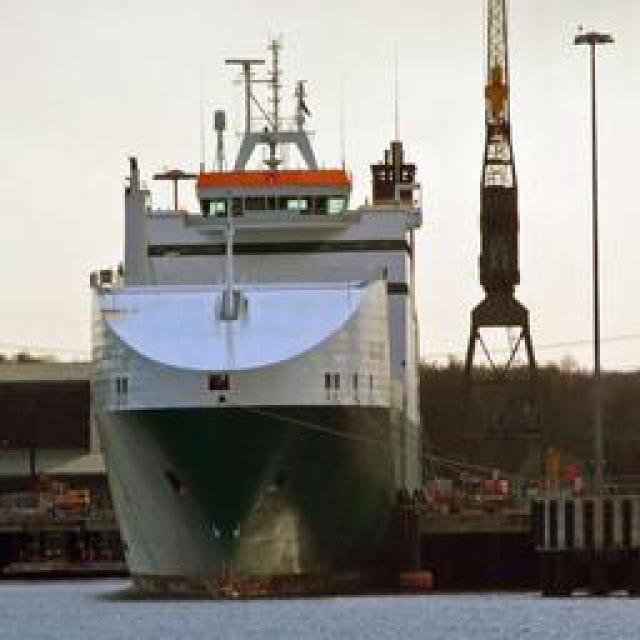Ship: (93, 47, 434, 591)
